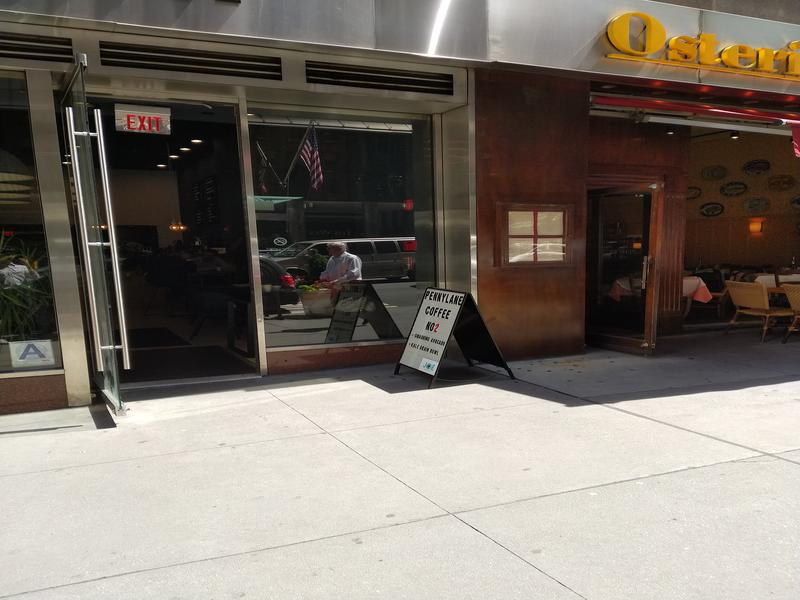door: (587, 163, 659, 360)
